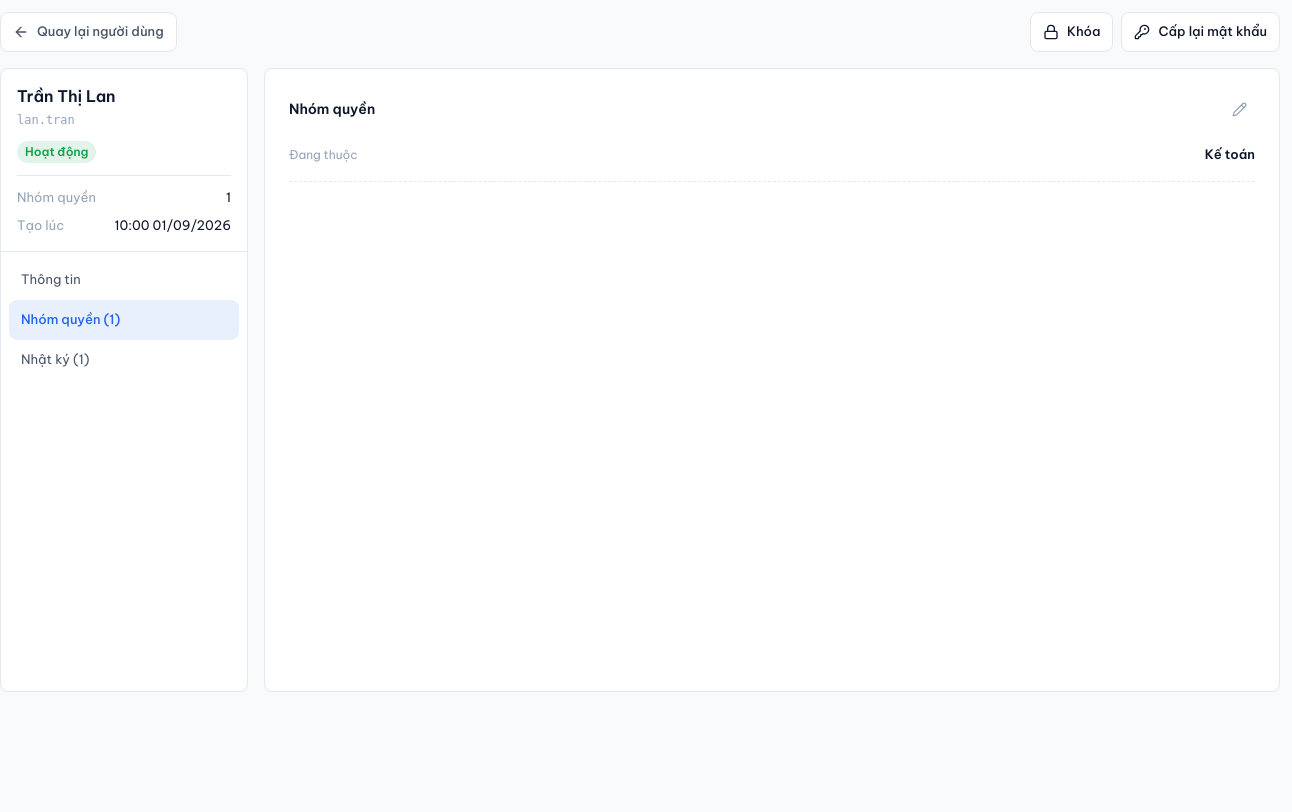
Test: UserDetail — sửa từng phần › đổi nhóm quyền: gửi roleIds; lỗi 'còn quản trị viên' hiện ở khung cảnh báo, vẫn ở chế độ sửa
The width and height of the screenshot is (1292, 812).
Click the button named "Chỉnh sửa nhóm quyền" at (1239, 109), box [1223,93,1255,125]
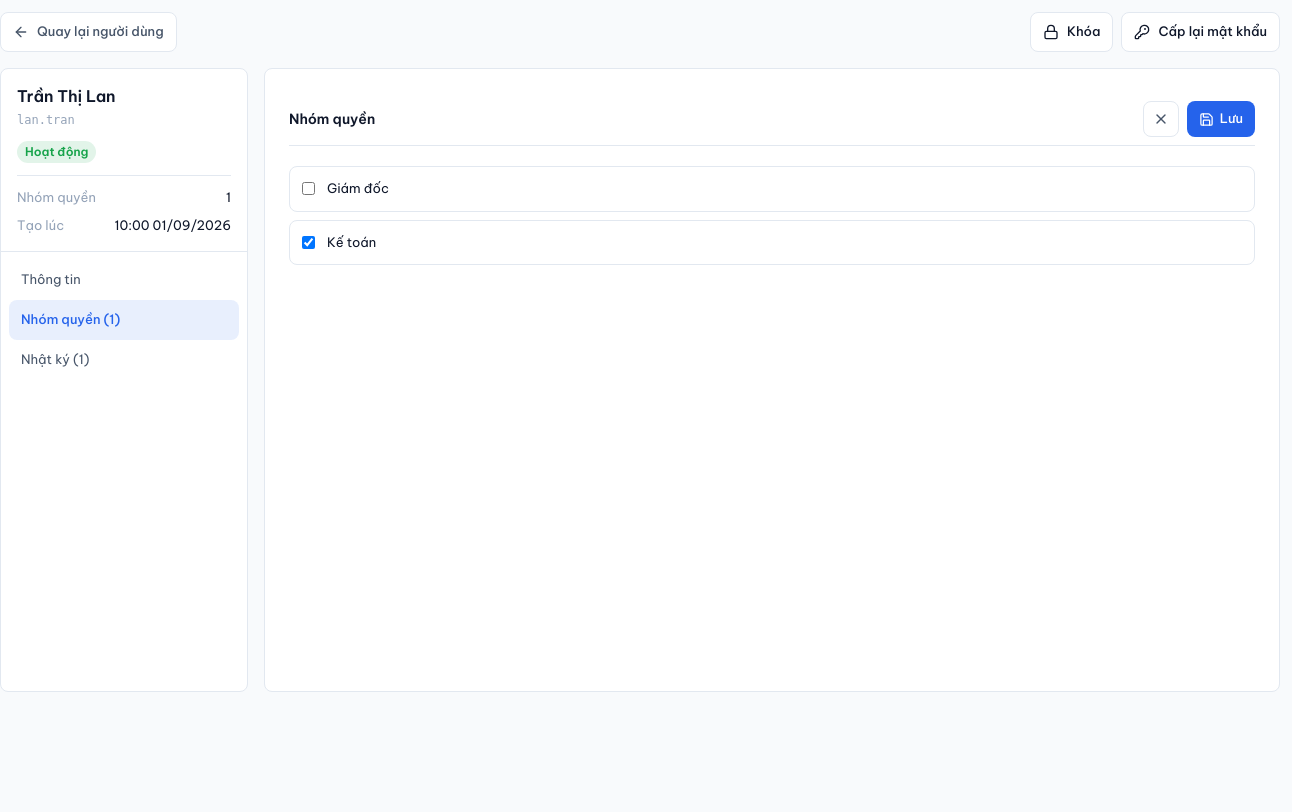
Click the checkbox labelled "Giám đốc" at (308, 189), box [302,182,315,195]
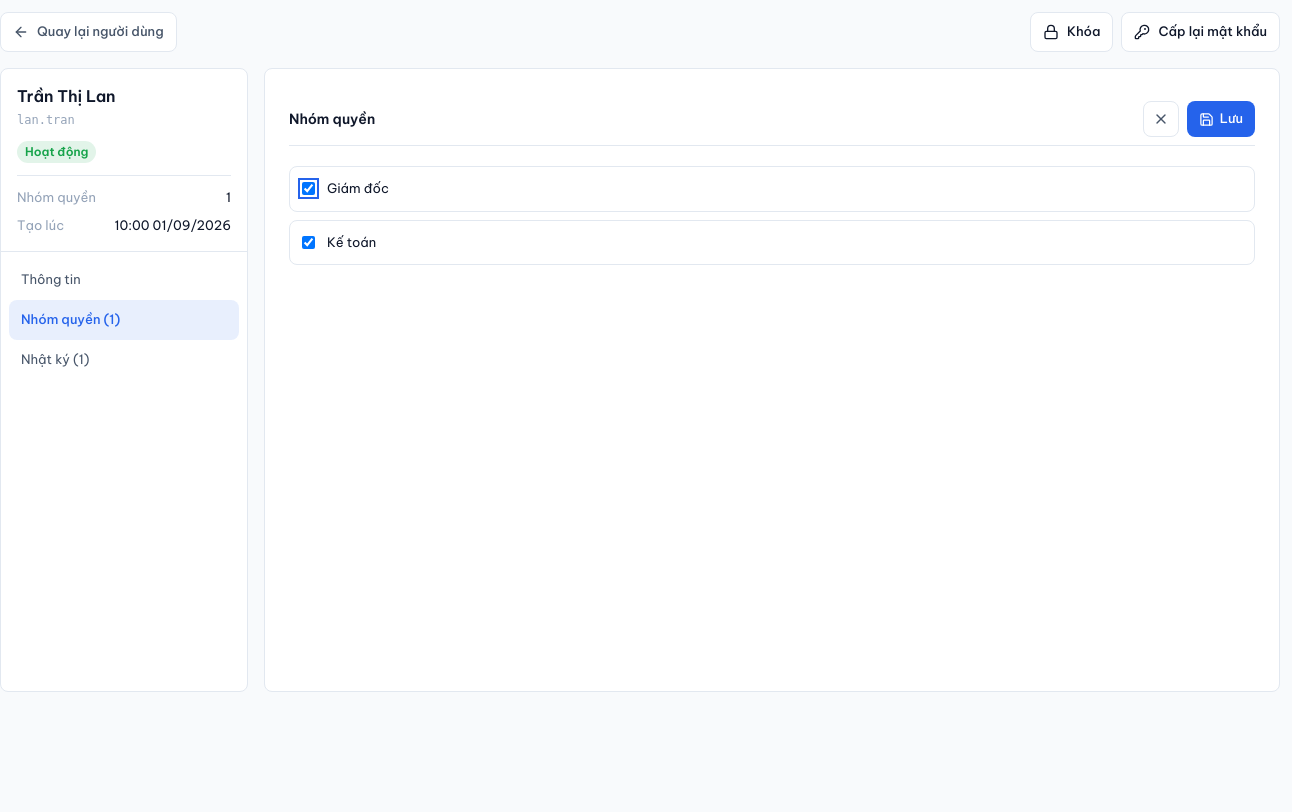
Click the button "Lưu" at (1221, 119), box [1187,101,1255,137]
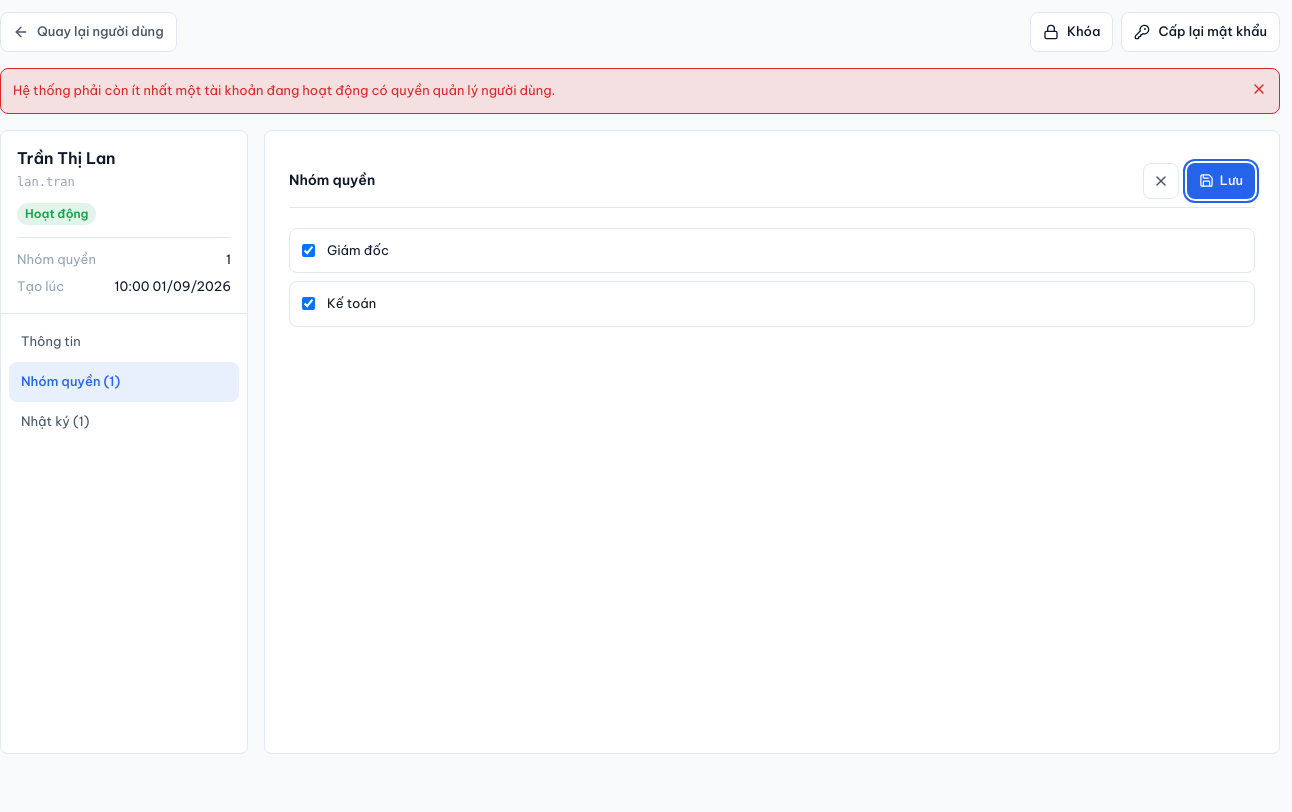
Expected: the button "Lưu" is enabled, [1187,162,1255,198]
Expected: the message shows "còn ít nhất một tài khoản", [13,82,555,98]
